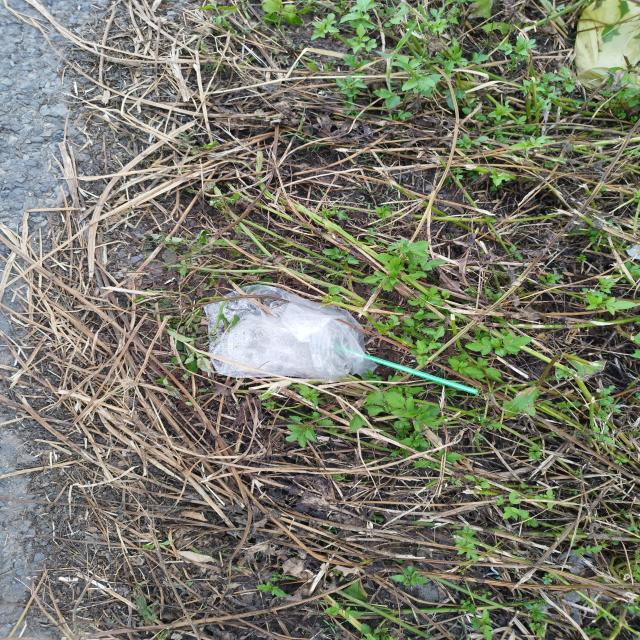bag: (205, 285, 378, 379)
drinking straw: (332, 343, 479, 395)
